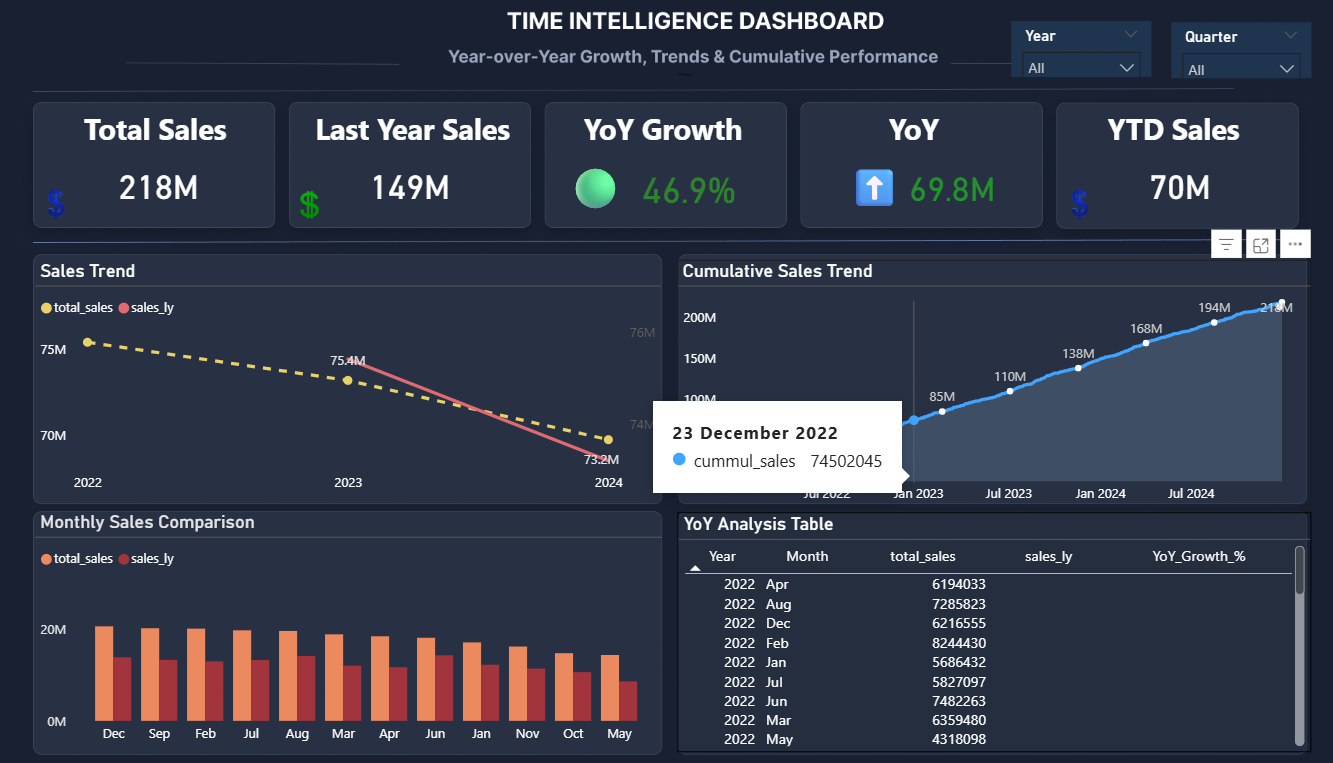

What the dashboard file says about the page in this screenshot:
{"tool":"powerbi","page":{"name":"time","canvas":[1280,720],"ordinal":3},"visuals":[{"type":"card","fields":{"Values":["calculate.total_sales"]},"box":[97.7,140.7,118.6,70.9],"z":0},{"type":"textbox","box":[82.6,100,148.8,51.2],"z":1000},{"type":"image","box":[41.9,176.7,40.7,34.9],"z":2000},{"type":"card","fields":{"Values":["calculate.sales_ly"]},"box":[331.4,140.7,118.6,70.9],"z":3000},{"type":"textbox","box":[297.7,100,214,51.2],"z":4000},{"type":"image","box":[282.6,181.4,30.2,25.6],"z":5000},{"type":"card","fields":{"Values":["calculate.YoY KPI Advanced"]},"box":[511.6,151.2,209.3,53.5],"z":6000},{"type":"textbox","box":[547.7,100,169.8,51.2],"z":7000},{"type":"card","fields":{"Values":["calculate.YTD_sales"]},"box":[1047.7,140.7,118.6,70.9],"z":8000},{"type":"textbox","box":[1034.9,100,169.8,51.2],"z":9000},{"type":"image","box":[994.2,176.7,40.7,34.9],"z":10000},{"type":"textbox","box":[831.4,100,88.4,51.2],"z":11000},{"type":"card","fields":{"Values":["calculate.YoY Display"]},"box":[789.5,141.9,155.8,70.9],"z":12000},{"type":"lineChart","title":"Sales Trend","fields":{"Y":["calculate.total_sales"],"Y2":["calculate.sales_ly"],"Category":["Date_Dim.Year"]},"box":[41.9,245.3,582.6,224.4],"z":13000},{"type":"clusteredColumnChart","title":"Monthly Sales Comparison","fields":{"Category":["Date_Dim.Month"],"Y":["calculate.total_sales","calculate.sales_ly"]},"box":[42,479,583,224],"z":14000},{"type":"lineChart","title":"Cumulative Sales Trend","fields":{"Y":["calculate.cummul_sales"],"Category":["Date_Dim.Date"]},"box":[639.5,245.3,589.5,234.9],"z":15000},{"type":"tableEx","title":"YoY Analysis Table","fields":{"Values":["Date_Dim.Year","Date_Dim.Month","calculate.total_sales","calculate.sales_ly","calculate.YoY_Growth_%"]},"box":[639.5,480.2,589.5,223.3],"z":16000},{"type":"slicer","fields":{"Values":["Date_Dim.Year"]},"box":[950,23.3,130.2,52.3],"z":17000},{"type":"slicer","fields":{"Values":["Date_Dim.Quarter"]},"box":[1098.8,24.4,130.2,52.3],"z":18000}]}

Visuals, with their boxes in screenshot pixels (x1, y1, x2, y2), scaled from the page's 1280x720 canvas onto the 1333x763 screenshot:
card - calculate.total_sales: 102,149,225,224
textbox: 86,106,241,160
image: 44,187,86,224
card - calculate.sales_ly: 345,149,469,224
textbox: 310,106,533,160
image: 294,192,326,219
card - calculate.YoY KPI Advanced: 533,160,751,217
textbox: 570,106,747,160
card - calculate.YTD_sales: 1091,149,1215,224
textbox: 1078,106,1255,160
image: 1035,187,1078,224
textbox: 866,106,958,160
card - calculate.YoY Display: 822,150,984,226
"Sales Trend" lineChart: 44,260,650,498
"Monthly Sales Comparison" clusteredColumnChart: 44,508,651,745
"Cumulative Sales Trend" lineChart: 666,260,1280,509
"YoY Analysis Table" tableEx: 666,509,1280,746
slicer - Date_Dim.Year: 989,25,1125,80
slicer - Date_Dim.Quarter: 1144,26,1280,81
